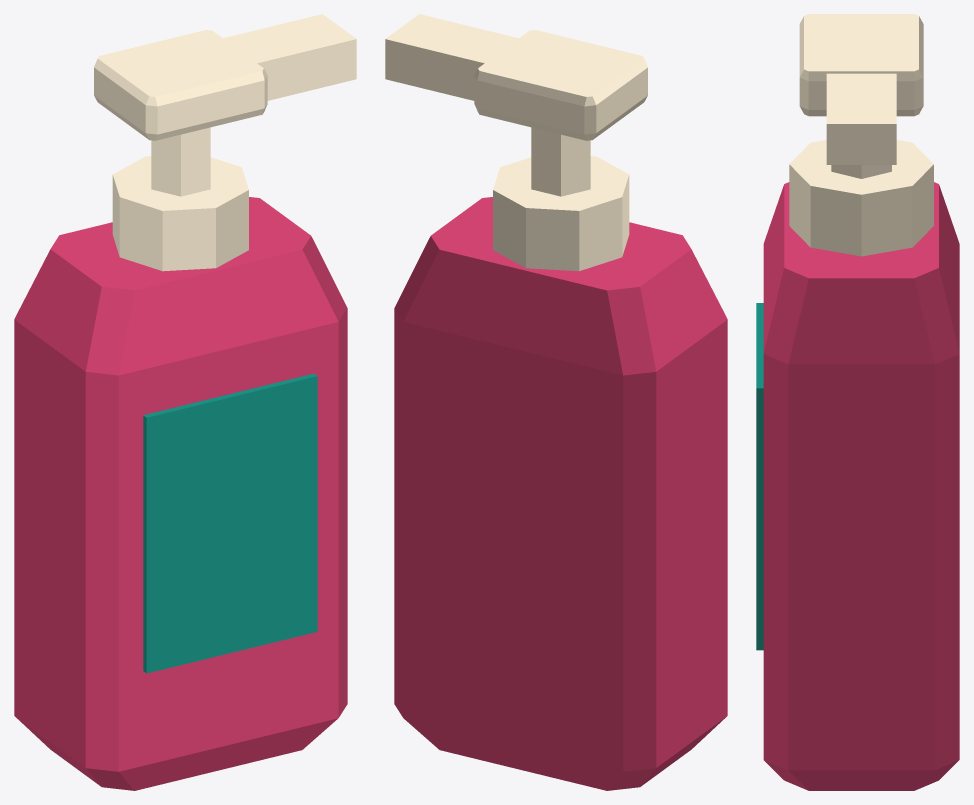
File: 23-shampoo.glb
The picture shows the model from 3 angles, left to right: view 1: azimuth 30°, elevation 25°; view 2: azimuth 150°, elevation 25°; view 3: azimuth 270°, elevation 25°; orthographic projection. The views are drawn at different scales.
Parts seen in each view (by area): view 1: 23-shampoo__PinkBottle, 23-shampoo__PlainLabel, 23-shampoo__PumpHead, 23-shampoo__Cap, 23-shampoo__PumpSpout, 23-shampoo__PumpStem; view 2: 23-shampoo__PinkBottle, 23-shampoo__PumpHead, 23-shampoo__Cap, 23-shampoo__PumpSpout, 23-shampoo__PumpStem; view 3: 23-shampoo__PinkBottle, 23-shampoo__Cap, 23-shampoo__PumpHead, 23-shampoo__PumpSpout, 23-shampoo__PlainLabel, 23-shampoo__PumpStem.
Boxes of the visible parts, x1=… form: 23-shampoo__PinkBottle: x1=14, y1=197, x2=347, y2=790; 23-shampoo__PlainLabel: x1=143, y1=373, x2=317, y2=673; 23-shampoo__PumpHead: x1=94, y1=30, x2=267, y2=140; 23-shampoo__Cap: x1=112, y1=156, x2=248, y2=271; 23-shampoo__PumpSpout: x1=223, y1=14, x2=356, y2=100; 23-shampoo__PumpStem: x1=151, y1=127, x2=210, y2=196; 23-shampoo__PinkBottle: x1=394, y1=197, x2=727, y2=790; 23-shampoo__PumpHead: x1=474, y1=30, x2=647, y2=140; 23-shampoo__Cap: x1=493, y1=156, x2=629, y2=271; 23-shampoo__PumpSpout: x1=385, y1=14, x2=518, y2=100; 23-shampoo__PumpStem: x1=531, y1=127, x2=590, y2=196; 23-shampoo__PinkBottle: x1=763, y1=182, x2=959, y2=790; 23-shampoo__Cap: x1=789, y1=140, x2=933, y2=256; 23-shampoo__PumpHead: x1=799, y1=14, x2=923, y2=116; 23-shampoo__PumpSpout: x1=826, y1=73, x2=896, y2=164; 23-shampoo__PlainLabel: x1=756, y1=303, x2=763, y2=650; 23-shampoo__PumpStem: x1=831, y1=165, x2=891, y2=178.
Bounding box in the file's own units: 0.166 × 0.372 × 0.0985.
